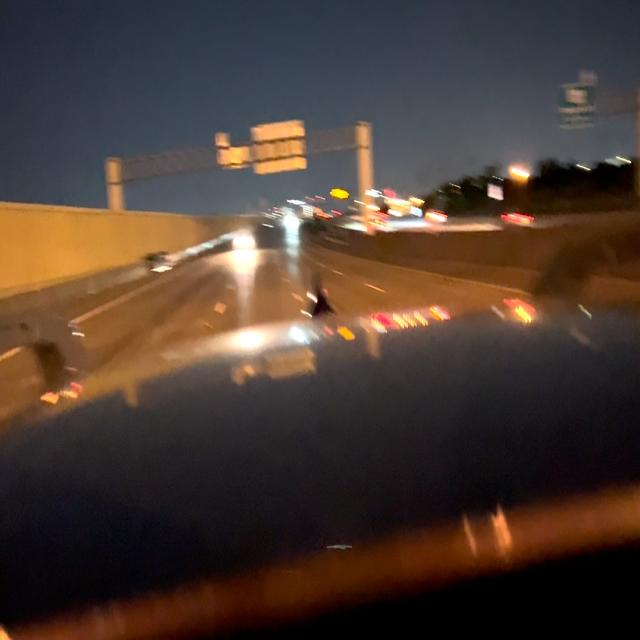back-of-sign: (252, 113, 308, 177), (215, 126, 253, 175)
